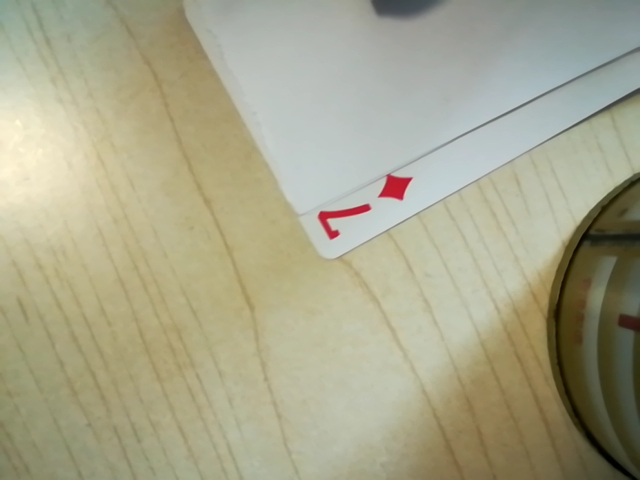fk 7: (306, 181, 405, 245)
